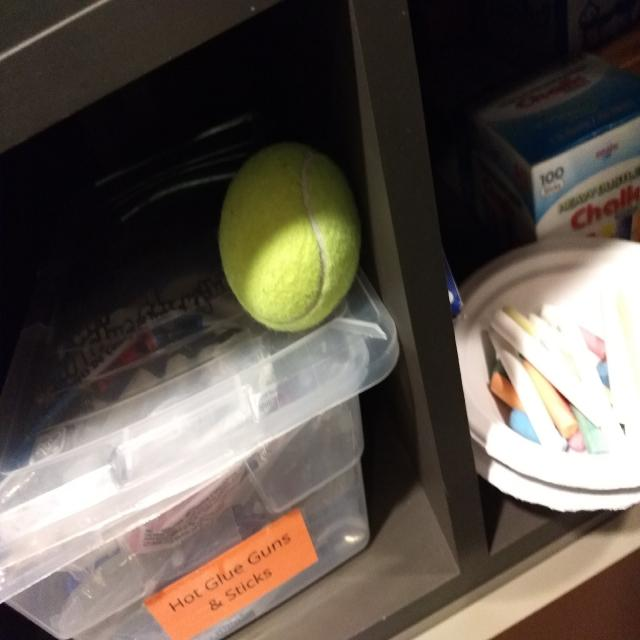tennis-ball: (218, 143, 364, 337)
